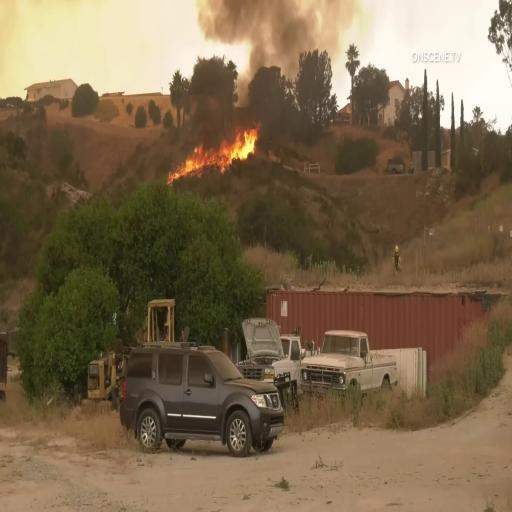fire: (167, 120, 262, 183)
smoke: (199, 0, 316, 69)
